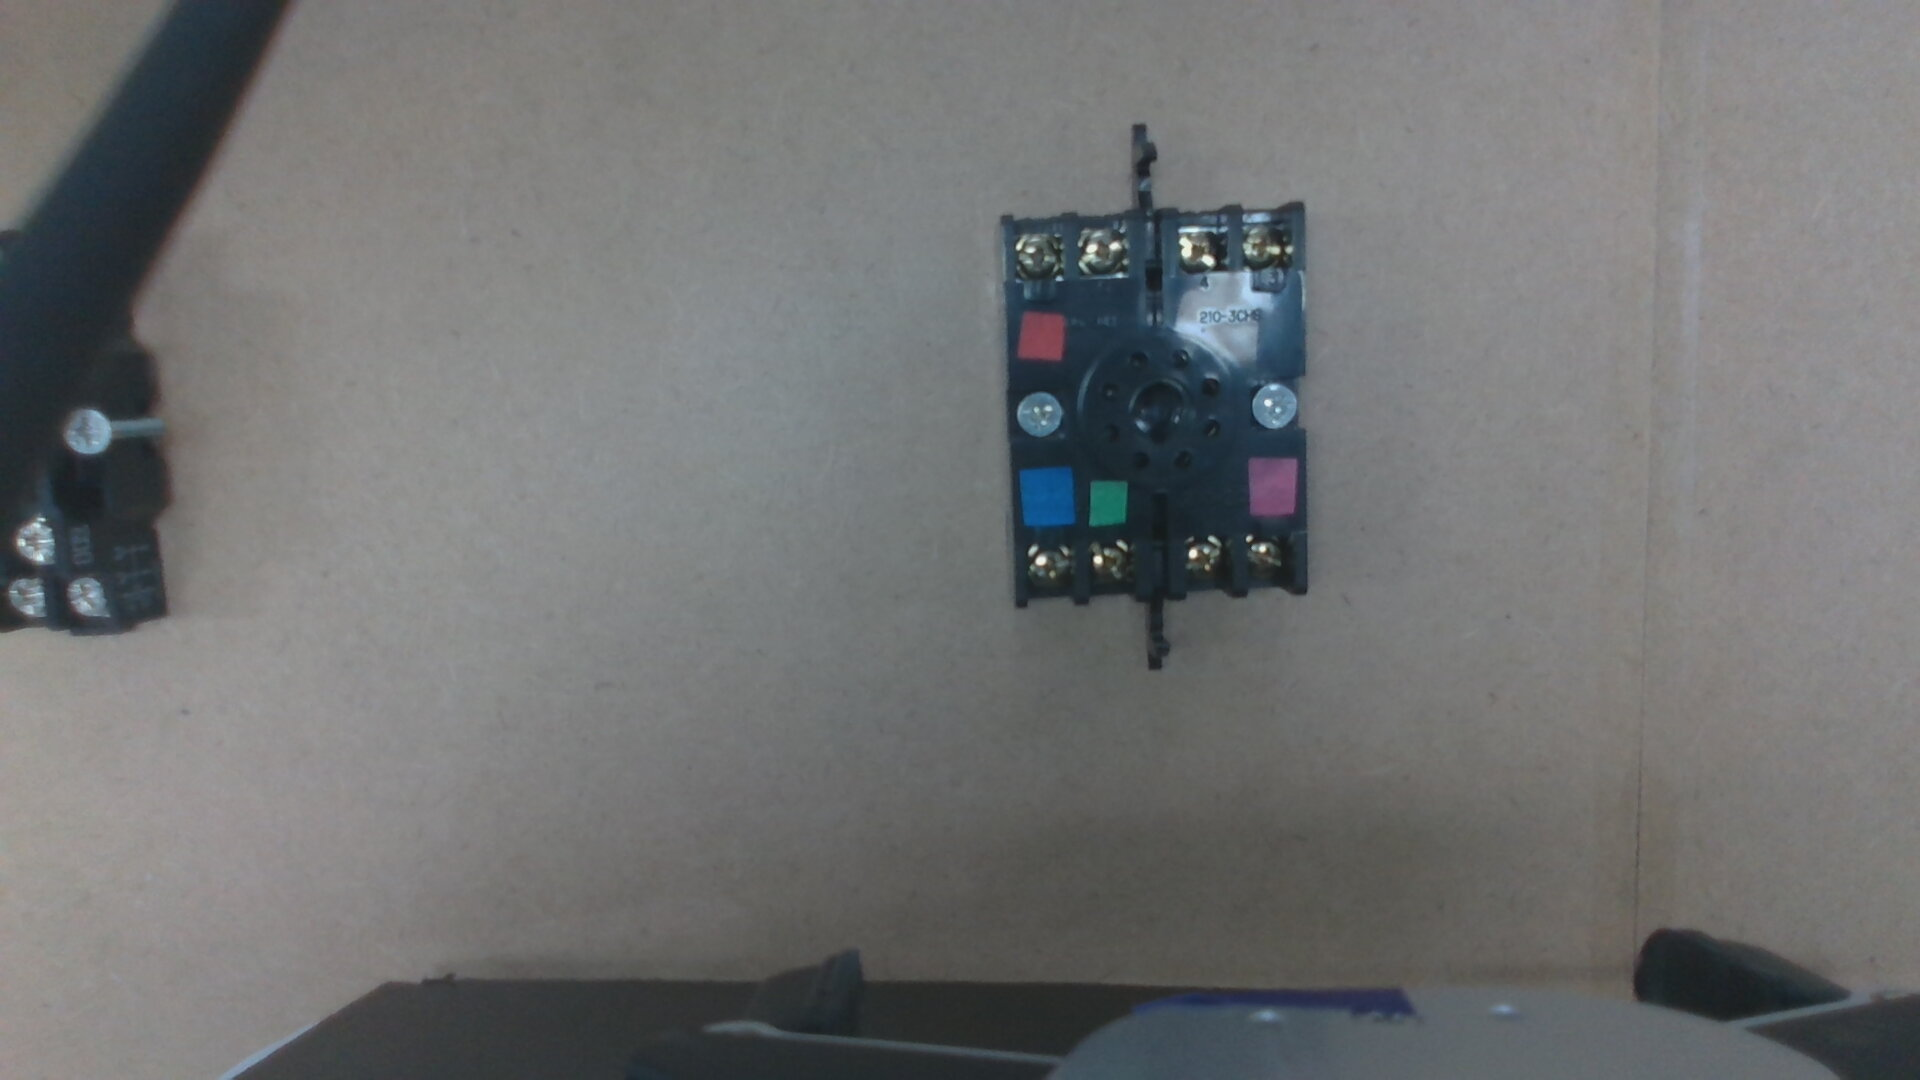timer 2: (1247, 537, 1284, 579)
timer 6: (1013, 235, 1062, 277)
timer 7: (1026, 545, 1069, 589)
timer 8: (1091, 539, 1129, 584)
